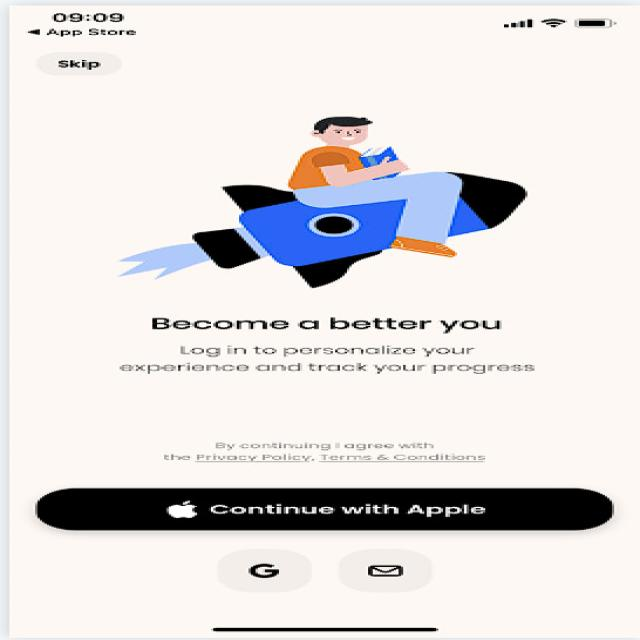button: (24, 484, 617, 539)
icon button: (194, 542, 331, 598), (329, 542, 460, 600)
image: (74, 101, 600, 301)
text: (68, 307, 598, 387), (153, 431, 549, 475)
